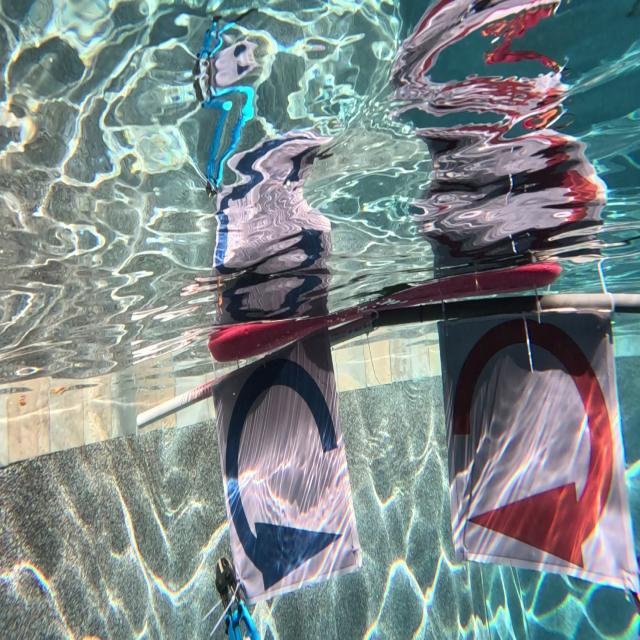blue_side: (202, 335, 362, 592)
red_side: (432, 311, 640, 594)
